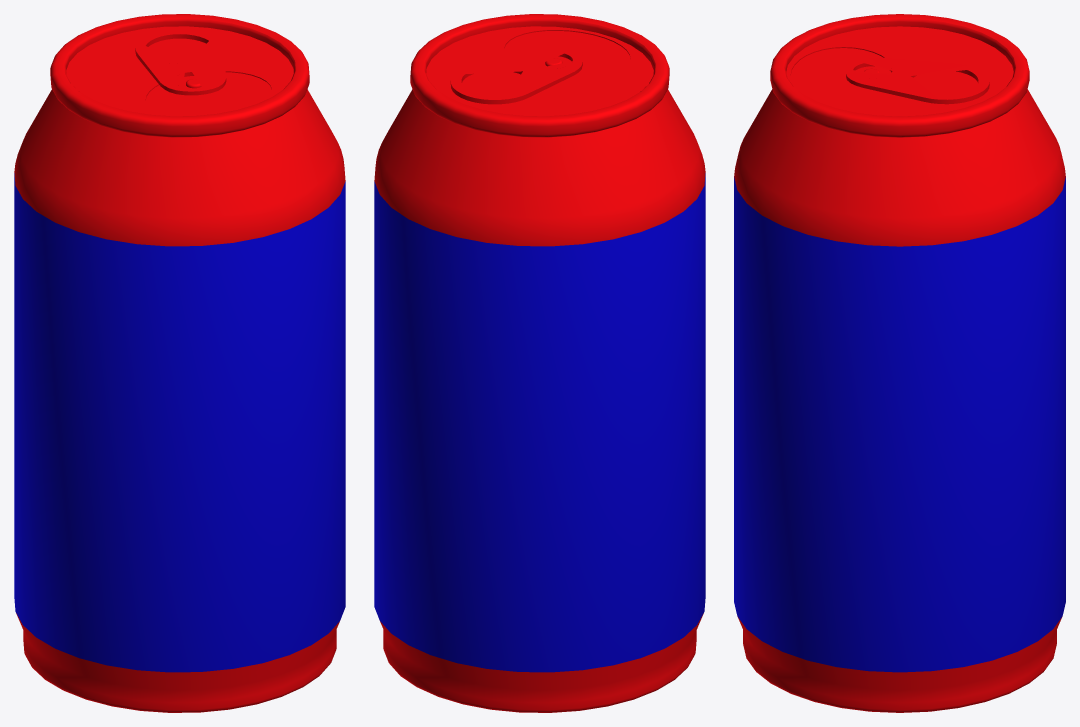
Rendered from Drink Can.fbx.
3 renders of one model, left to right at view 1: azimuth 30°, elevation 25°; view 2: azimuth 150°, elevation 25°; view 3: azimuth 270°, elevation 25°, orthographic.
Visible parts, largest first — view 1: Kaleng Minuman Usang; view 2: Kaleng Minuman Usang; view 3: Kaleng Minuman Usang.
Part boxes in pixels (x1=…): Kaleng Minuman Usang: x1=14, y1=14, x2=345, y2=712; Kaleng Minuman Usang: x1=374, y1=14, x2=705, y2=712; Kaleng Minuman Usang: x1=734, y1=14, x2=1065, y2=712.
Size of the model in its own units: 196 by 379 by 196.
